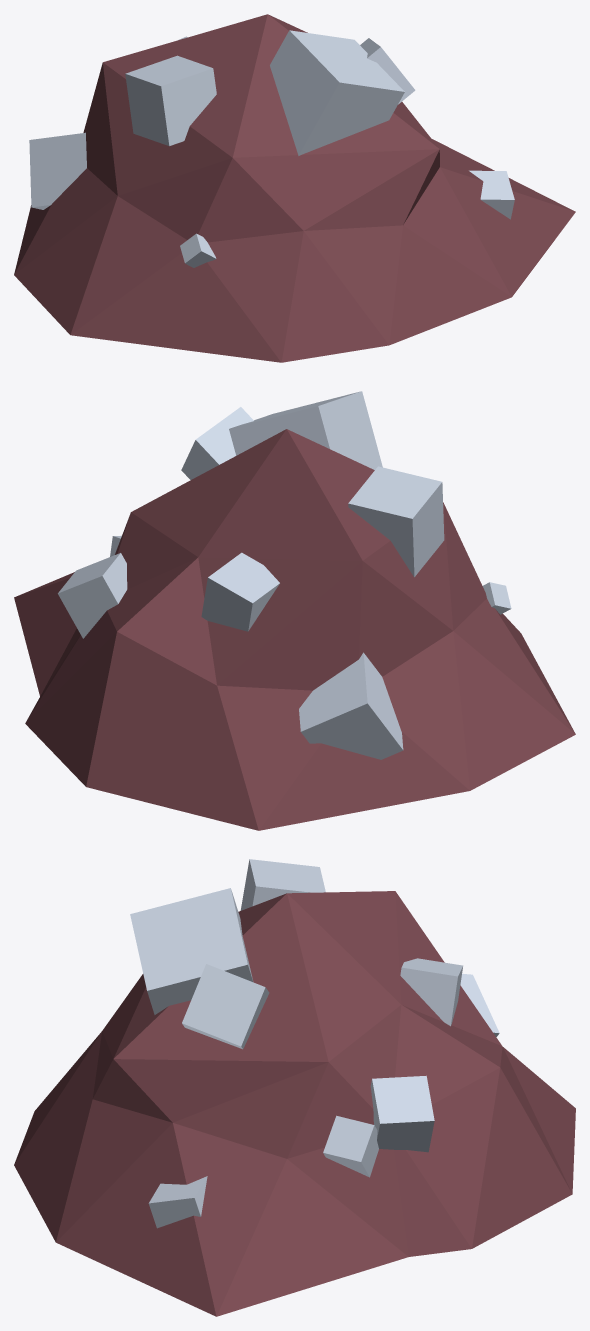
File: cubeore_1.fbx
The picture shows the model from 3 angles, top to bottom: view 1: azimuth 30°, elevation 25°; view 2: azimuth 150°, elevation 25°; view 3: azimuth 270°, elevation 25°; orthographic projection. The views are drawn at different scales.
Visible parts, largest first — view 1: Cube.001; view 2: Cube.001; view 3: Cube.001.
Part boxes in pixels (box(x1,y1,x2,y2)): Cube.001: box(14, 14, 575, 362); Cube.001: box(14, 391, 575, 830); Cube.001: box(14, 859, 575, 1316).
Bounding box in the file's own units: 287 × 133 × 246.
